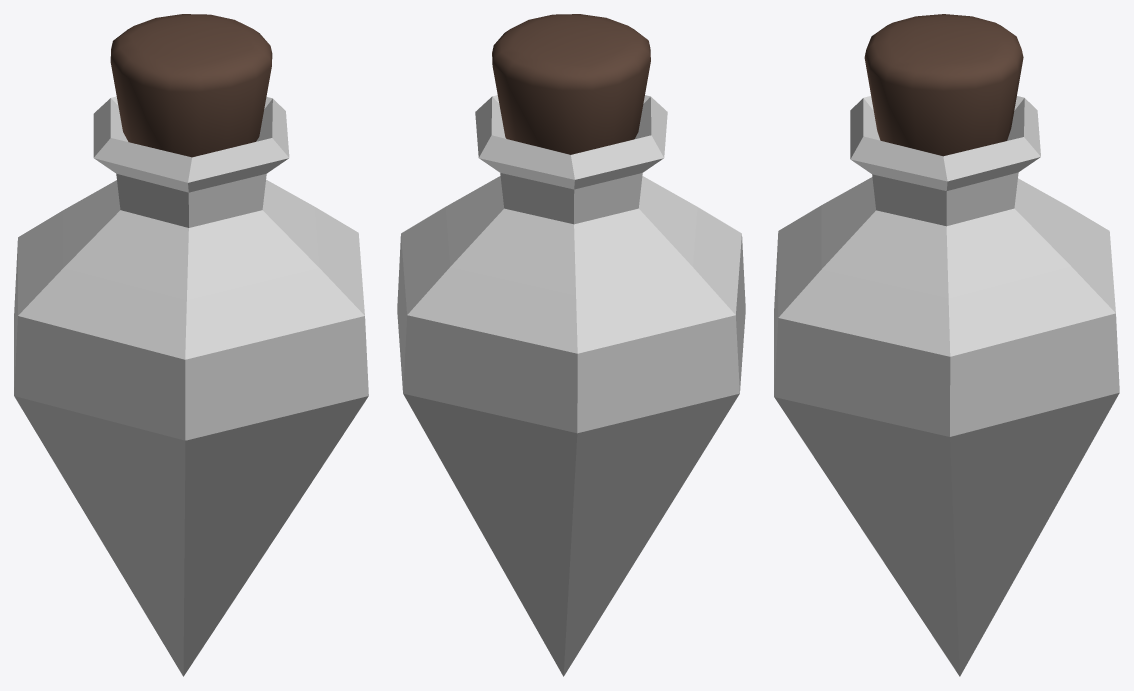
File: Potion10_Empty.glb
3 views of the same model, side by side, from view 1: azimuth 30°, elevation 25°; view 2: azimuth 150°, elevation 25°; view 3: azimuth 270°, elevation 25° (orthographic).
Visible parts, largest first — view 1: Potion10_Empty_Cube.131; view 2: Potion10_Empty_Cube.131; view 3: Potion10_Empty_Cube.131.
Boxes of the visible parts, <box> form: Potion10_Empty_Cube.131: <box>14,14,368,676</box>; Potion10_Empty_Cube.131: <box>397,14,745,676</box>; Potion10_Empty_Cube.131: <box>774,14,1119,676</box>.
Bounding box in the file's own units: 0.4379 × 0.7742 × 0.3792.
